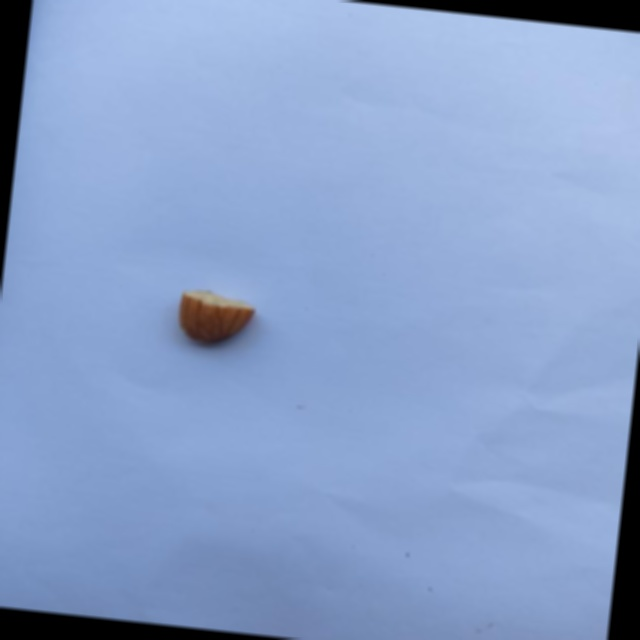grade4: (168, 283, 266, 355)
